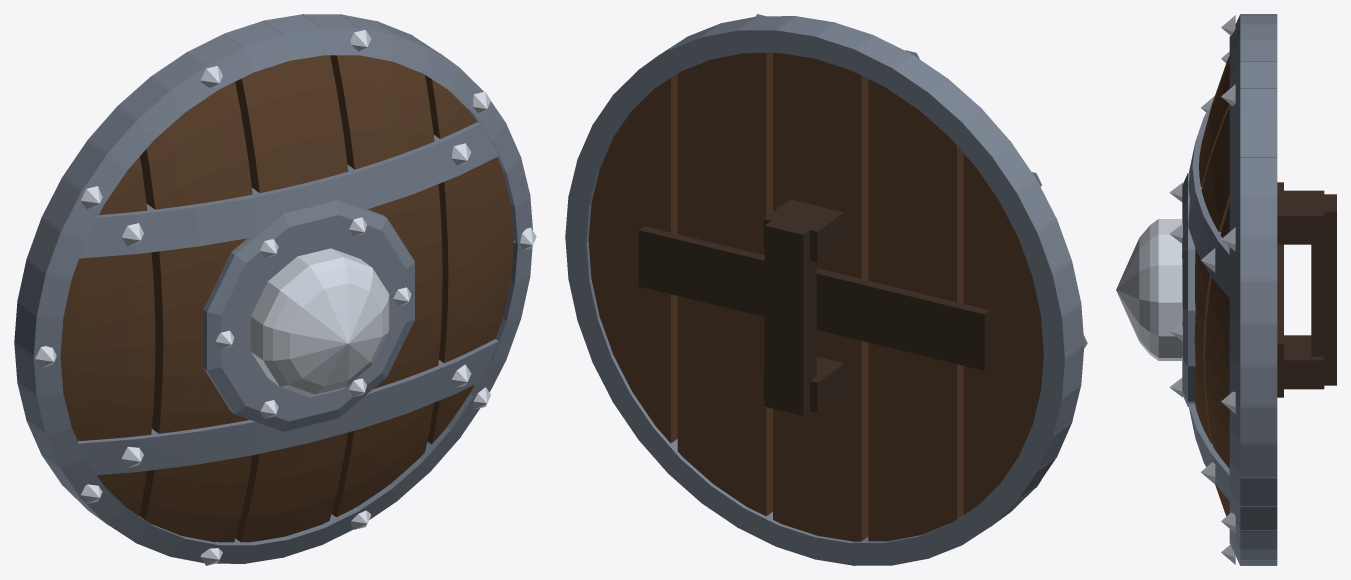
File: Bouclier_P1.fbx
3 views of the same model, side by side, from view 1: azimuth 30°, elevation 25°; view 2: azimuth 150°, elevation 25°; view 3: azimuth 270°, elevation 25° (orthographic). The views are drawn at different scales.
Visible parts, largest first — view 1: Bouclier_P1_Bois, Bouclier_P1_Metal, Bouclier_P1_Argent; view 2: Bouclier_P1_Bois, Bouclier_P1_Metal, Bouclier_P1_Cuir; view 3: Bouclier_P1_Metal, Bouclier_P1_Bois, Bouclier_P1_Cuir, Bouclier_P1_Argent.
Boxes of the visible parts, <box> form: Bouclier_P1_Bois: <box>60,55,513,542</box>; Bouclier_P1_Metal: <box>14,14,532,563</box>; Bouclier_P1_Argent: <box>35,30,536,565</box>; Bouclier_P1_Bois: <box>588,53,1043,541</box>; Bouclier_P1_Metal: <box>565,16,1084,565</box>; Bouclier_P1_Cuir: <box>638,199,990,415</box>; Bouclier_P1_Metal: <box>1182,14,1277,565</box>; Bouclier_P1_Bois: <box>1194,56,1229,516</box>; Bouclier_P1_Cuir: <box>1277,182,1336,397</box>; Bouclier_P1_Argent: <box>1116,15,1235,564</box>.
Bounding box in the file's own units: 2.61 × 2.6 × 1.04.
